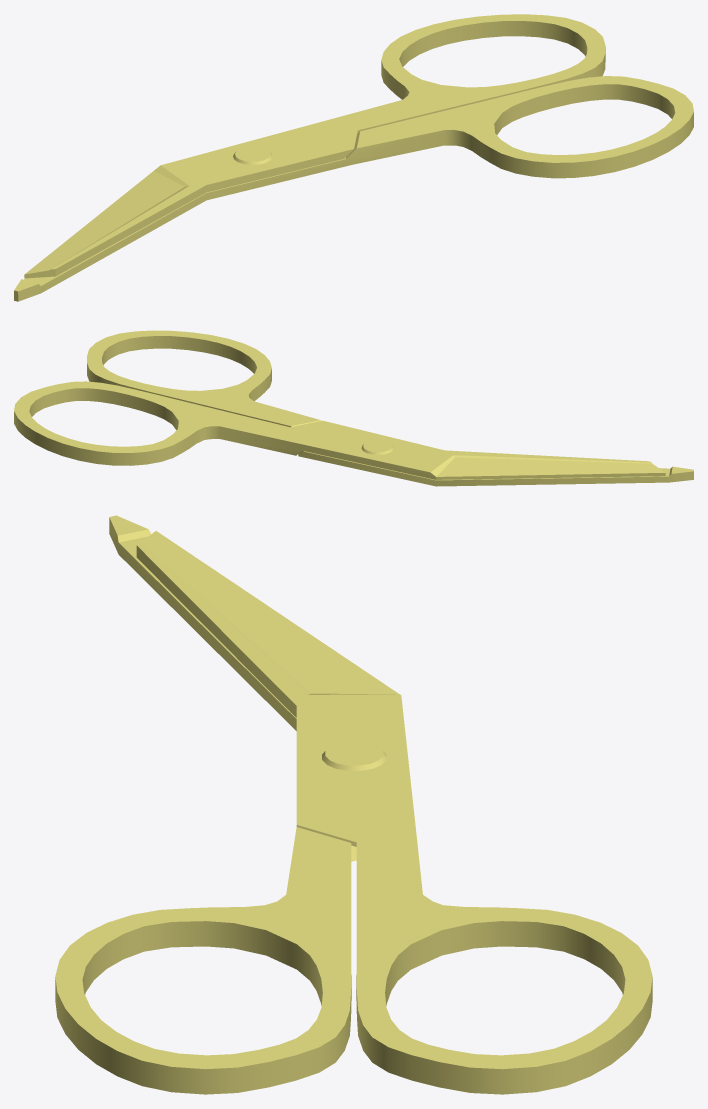
The model's file is scissors.fbx.
The picture shows the model from 3 angles, top to bottom: view 1: azimuth 30°, elevation 25°; view 2: azimuth 150°, elevation 25°; view 3: azimuth 270°, elevation 25°; orthographic projection. The views are drawn at different scales.
Visible parts, largest first — view 1: scissors.003, scissors.002, Circle.005; view 2: scissors.003, scissors.002, Circle.005; view 3: scissors.003, scissors.002, Circle.005.
Boxes of the visible parts, box(x1,y1,x2,y2) form: scissors.003: box(24, 14, 605, 278); scissors.002: box(14, 76, 693, 301); Circle.005: box(233, 146, 272, 164); scissors.003: box(14, 381, 665, 479); scissors.002: box(87, 330, 693, 486); Circle.005: box(361, 440, 394, 454); scissors.003: box(136, 531, 652, 1094); scissors.002: box(55, 515, 356, 1094); Circle.005: box(322, 741, 386, 770).
Size of the model in its own units: 0.1239 by 0.00342 by 0.0556.
